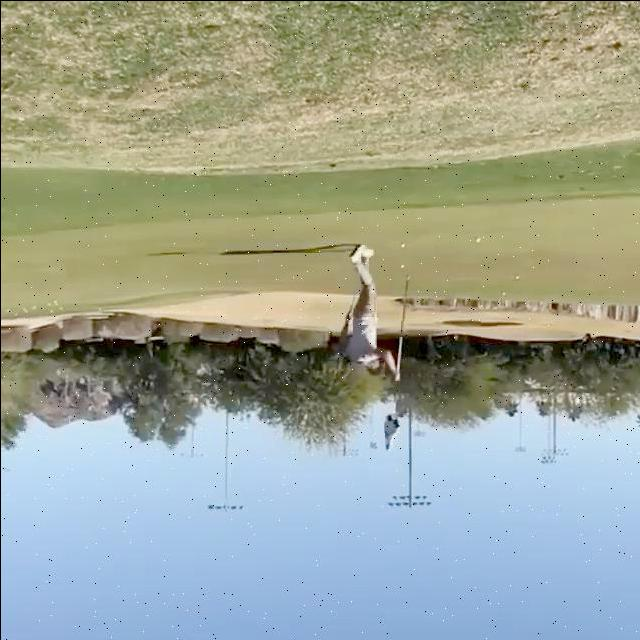ClubHandle: (344, 278, 360, 322)
GolfBall: (475, 237, 480, 242), (400, 241, 404, 246), (399, 263, 403, 267)
